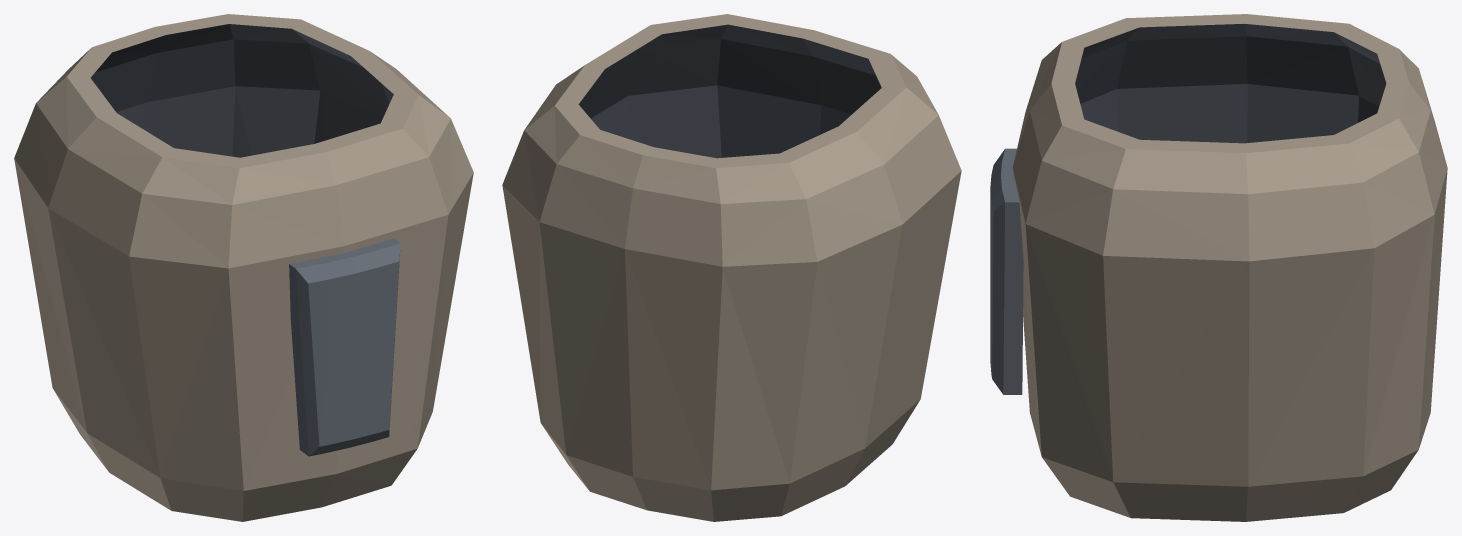
The model's file is shin_medium.glb.
The picture shows the model from 3 angles, left to right: view 1: azimuth 30°, elevation 25°; view 2: azimuth 150°, elevation 25°; view 3: azimuth 270°, elevation 25°; orthographic projection. The views are drawn at different scales.
Parts seen in each view (by area): view 1: shin_medium; view 2: shin_medium; view 3: shin_medium.
Boxes of the visible parts, <box> form: shin_medium: <box>14,14,473,521</box>; shin_medium: <box>502,14,961,521</box>; shin_medium: <box>990,14,1447,521</box>.
Size of the model in its own units: 1.05 by 0.98 by 1.08.
